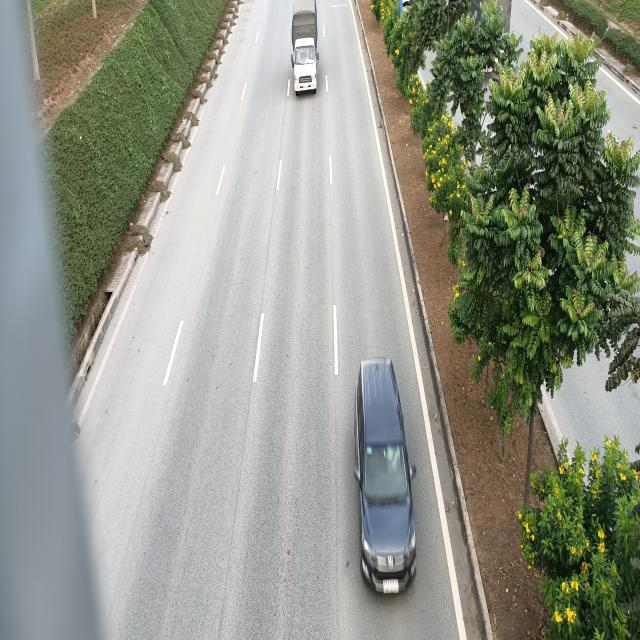car: (355, 359, 421, 593)
truck: (291, 2, 320, 97)
